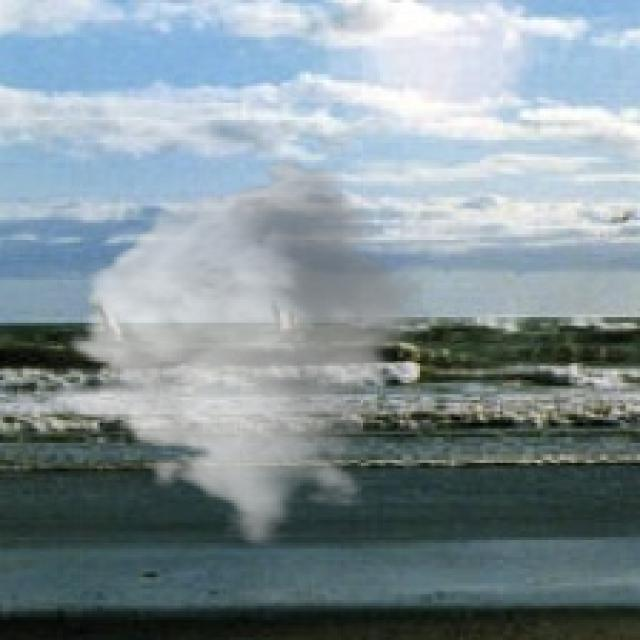Smoke: (39, 154, 434, 546)
